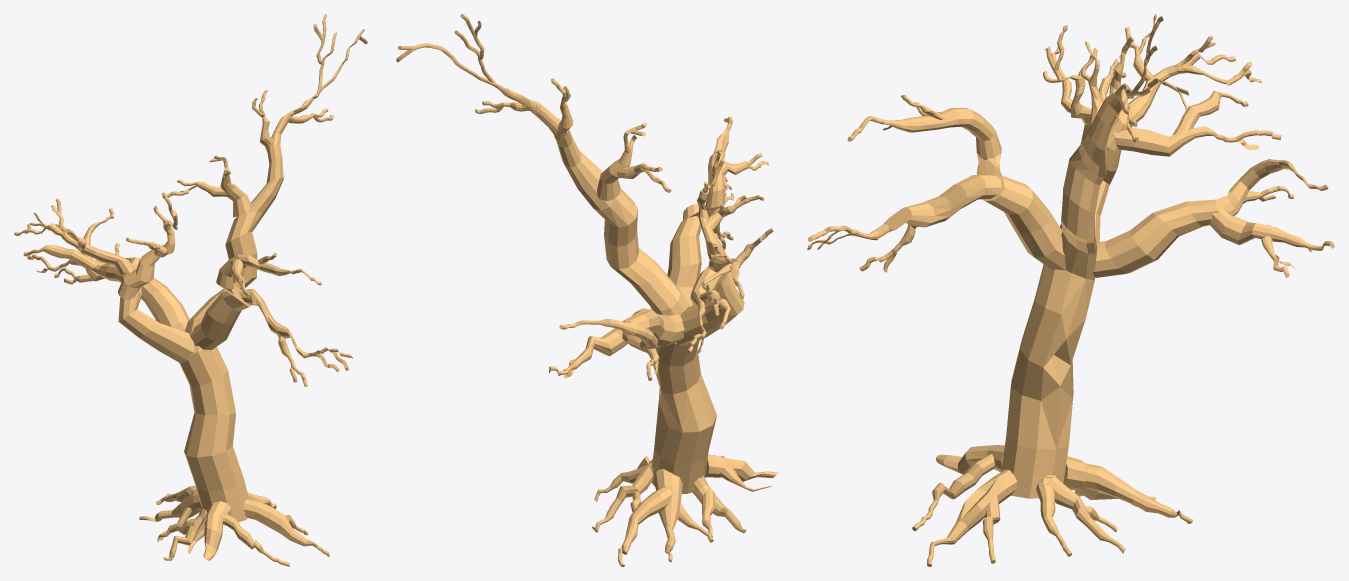
3 renders of one model, left to right at view 1: azimuth 30°, elevation 25°; view 2: azimuth 150°, elevation 25°; view 3: azimuth 270°, elevation 25°, orthographic. The views are drawn at different scales.
Parts seen in each view (by area): view 1: default; view 2: default; view 3: default.
Part boxes in pixels (x1,y1,x2,y2): default: (14,14,367,566); default: (396,14,778,566); default: (807,14,1334,566).
Bounding box in the file's own units: 1 × 1.31 × 1.03.
